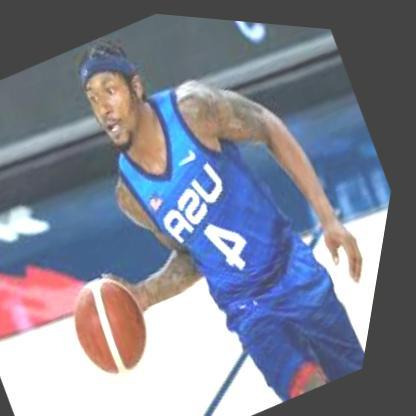basketball: (57, 258, 182, 389)
